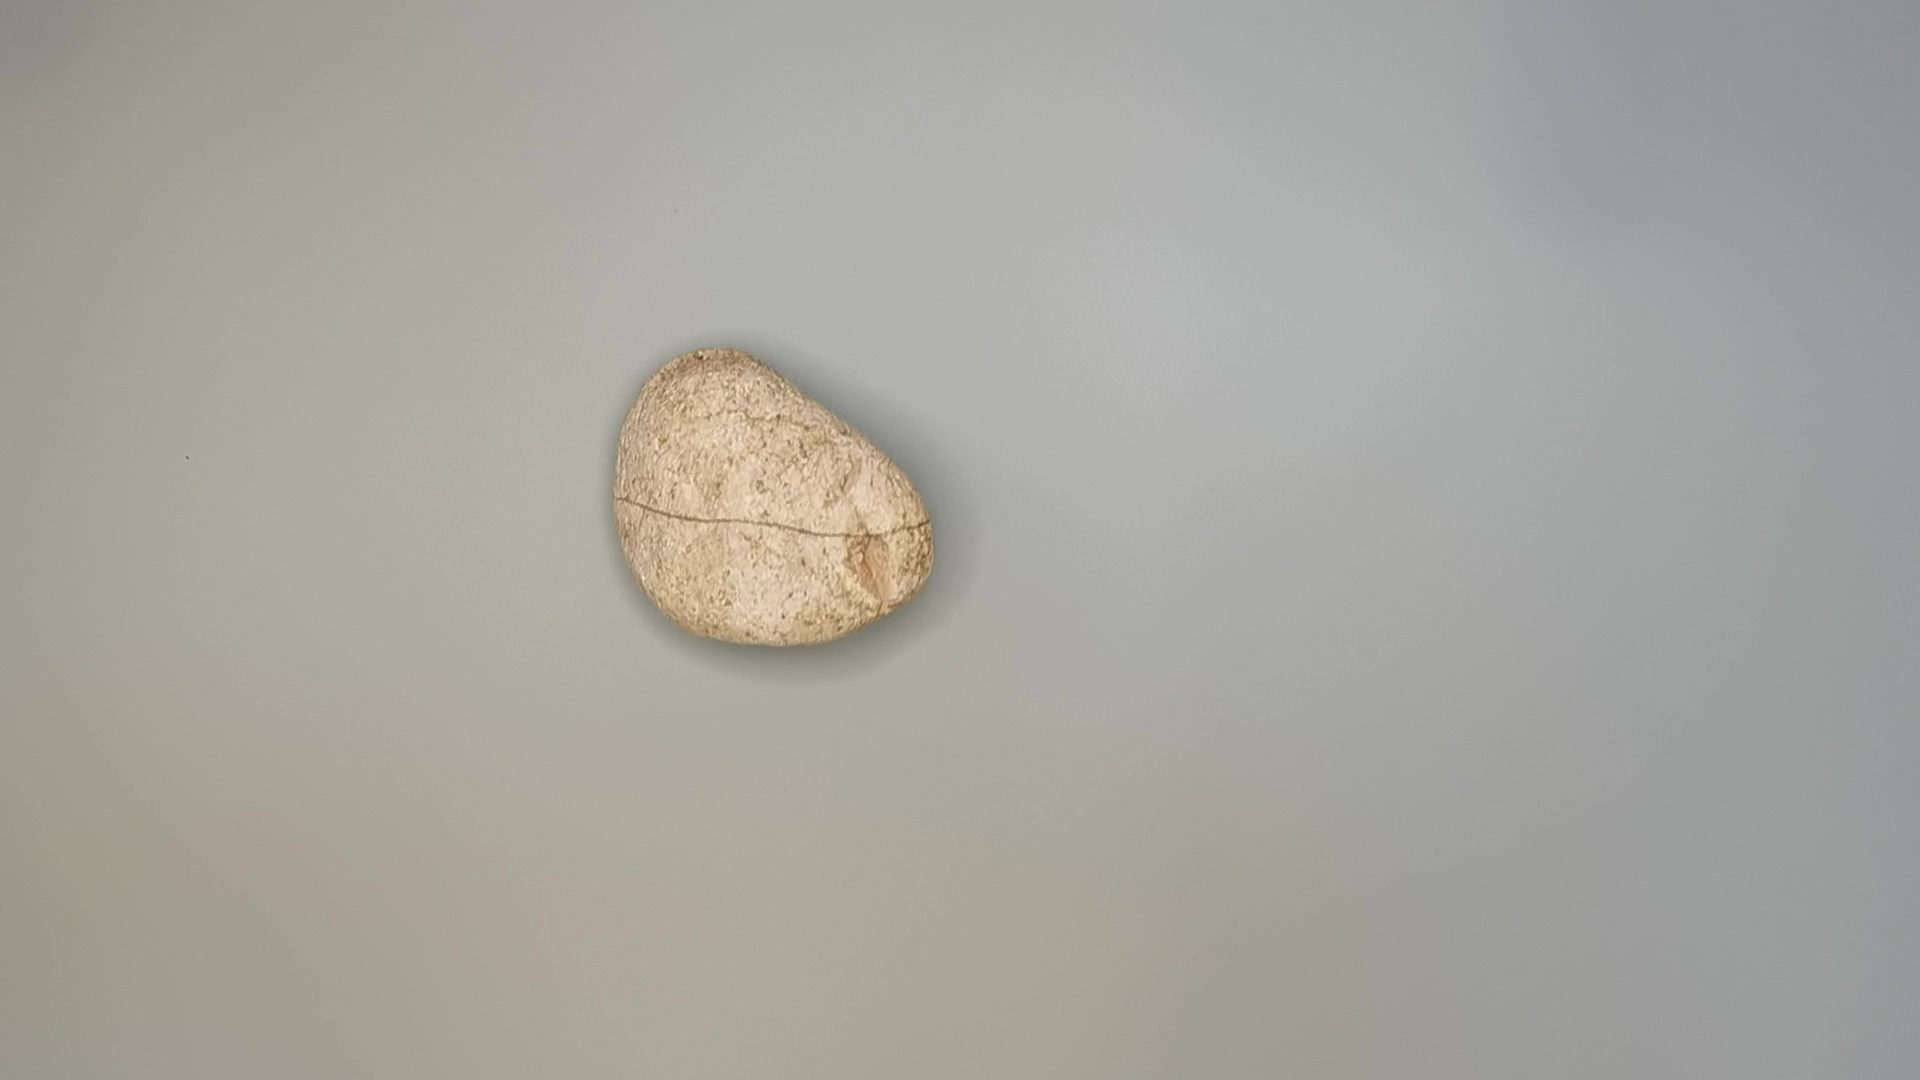ceramic: (601, 343, 949, 658)
